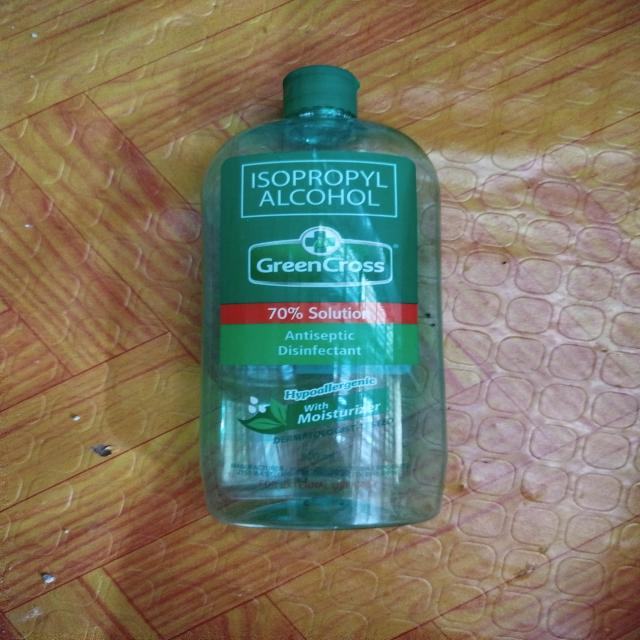plastic: (177, 42, 475, 545)
